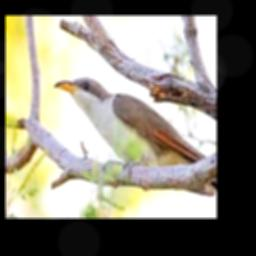Cuckoo: (54, 78, 207, 175)
